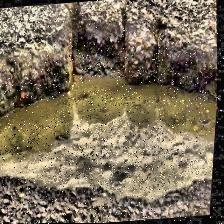pothole: (0, 9, 224, 209)
